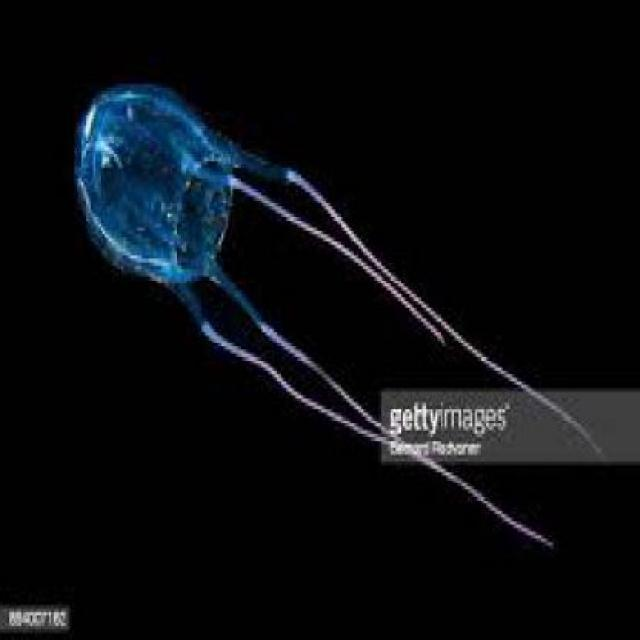Jellyfish: (66, 73, 380, 438)
